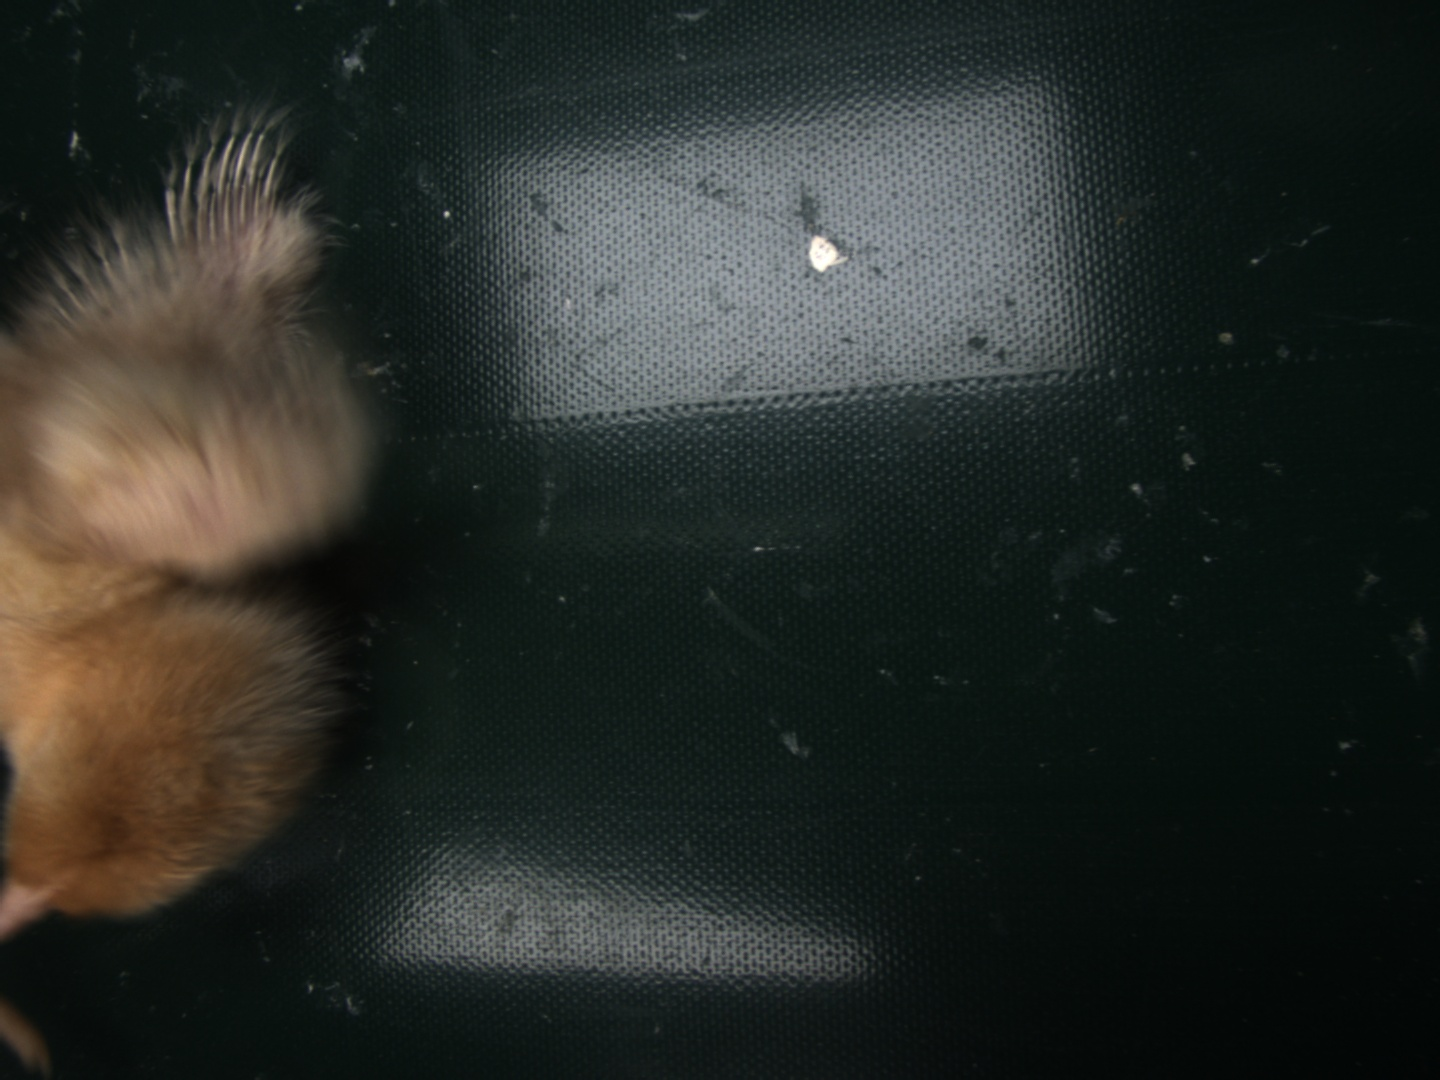female: (156, 123, 291, 245)
